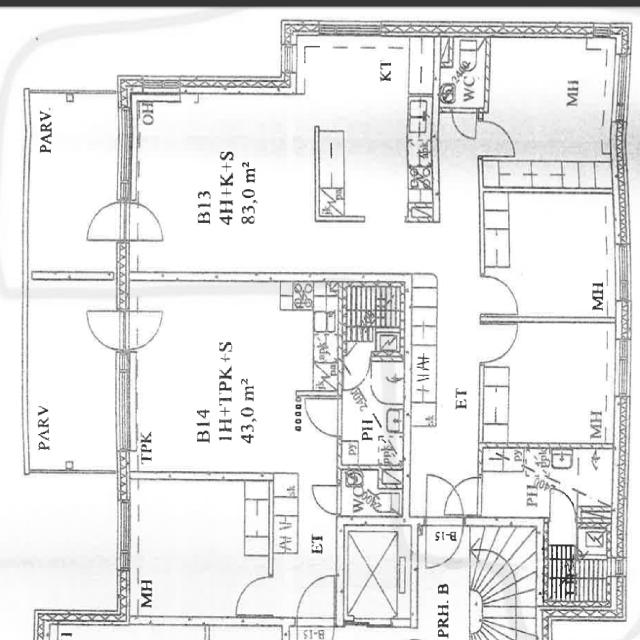door: (424, 470, 482, 518), (424, 520, 466, 570), (296, 573, 341, 619), (479, 271, 523, 317), (234, 571, 276, 618), (83, 197, 125, 243), (478, 319, 520, 364), (84, 306, 126, 350), (302, 395, 342, 438), (126, 307, 166, 349), (127, 200, 166, 243), (479, 118, 516, 160), (546, 485, 578, 526), (310, 482, 342, 516), (451, 108, 478, 140)
window: (113, 351, 142, 451), (112, 102, 140, 200), (516, 311, 611, 331), (610, 334, 634, 402), (114, 493, 135, 566), (612, 239, 634, 307), (610, 51, 631, 122)
zone: (130, 285, 342, 476), (295, 38, 438, 271), (127, 84, 297, 278), (129, 478, 271, 621), (487, 36, 618, 190), (24, 90, 122, 291), (25, 293, 124, 477), (482, 320, 618, 448), (484, 191, 617, 319), (341, 519, 411, 627), (542, 518, 620, 612), (546, 448, 616, 527), (479, 445, 550, 521), (439, 37, 489, 109), (338, 468, 404, 517), (407, 37, 438, 95), (235, 572, 275, 616)
